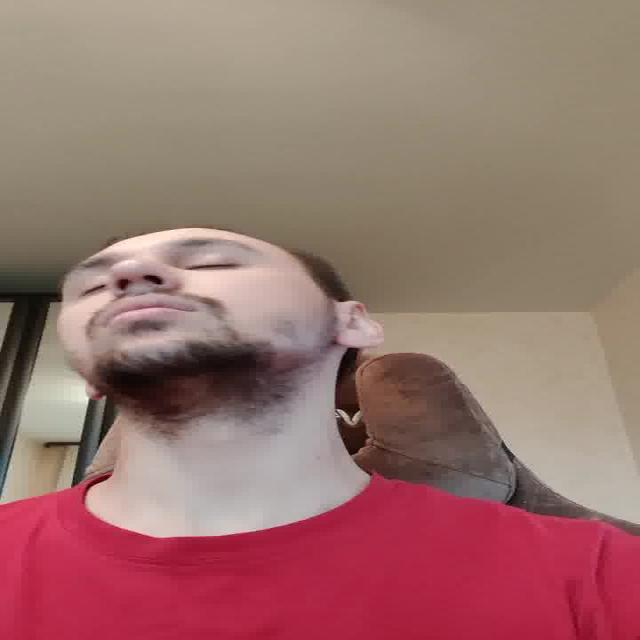earlobe: (339, 335, 379, 349), (85, 386, 105, 400)
eye: (73, 278, 109, 298), (183, 260, 240, 272)
nose: (106, 280, 177, 294)
wholeear: (337, 300, 386, 348)
